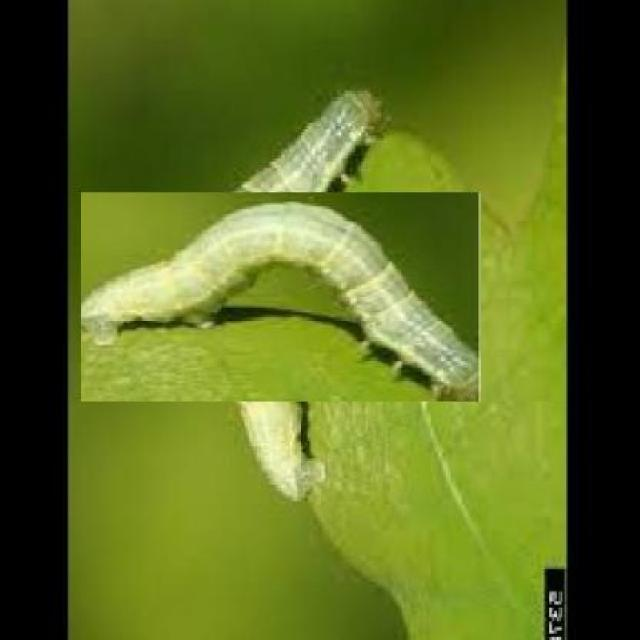Plaga: (126, 146, 433, 452)
